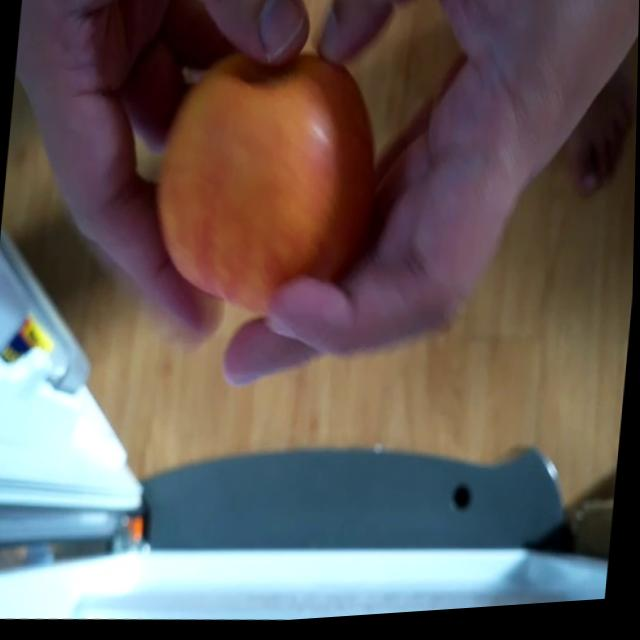apple: (143, 43, 391, 332)
